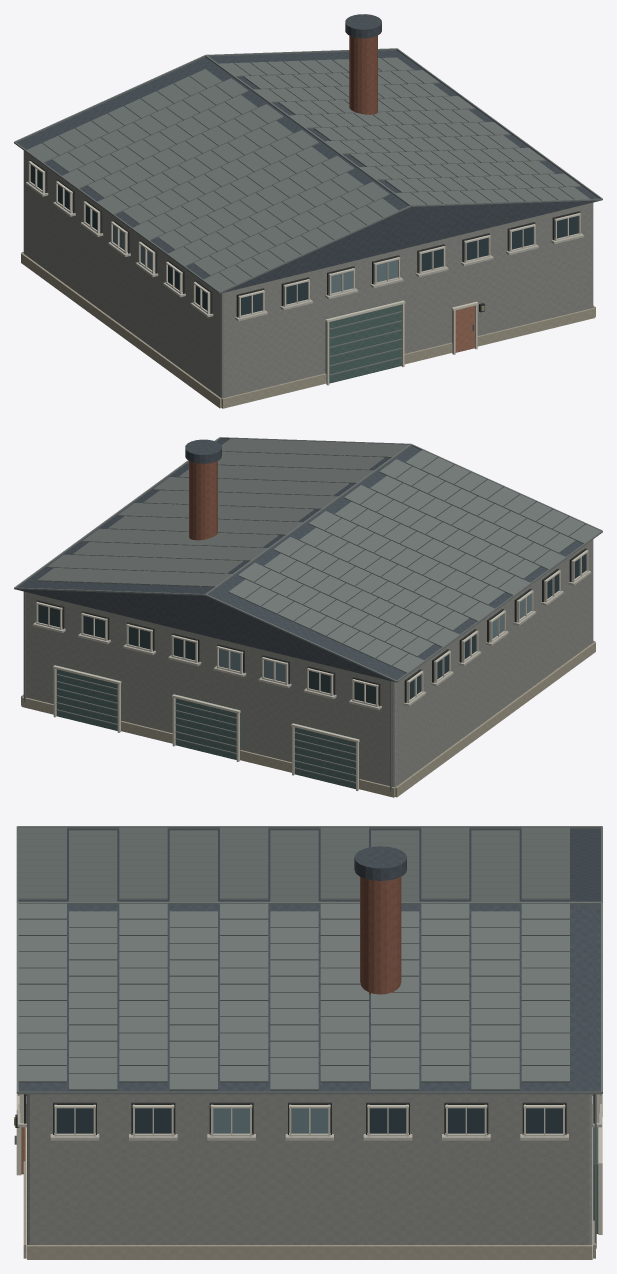
Rendered from IND_MID_3x3_003.glb.
3 renders of one model, top to bottom at view 1: azimuth 30°, elevation 25°; view 2: azimuth 150°, elevation 25°; view 3: azimuth 270°, elevation 25°, orthographic. The views are drawn at different scales.
Visible parts, largest first — view 1: IND_MID_3x3_003_Visual; view 2: IND_MID_3x3_003_Visual; view 3: IND_MID_3x3_003_Visual.
Boxes of the visible parts, x1,y1,x2,y2 form: IND_MID_3x3_003_Visual: (14, 14, 602, 408); IND_MID_3x3_003_Visual: (14, 437, 602, 797); IND_MID_3x3_003_Visual: (14, 826, 602, 1259).
Size of what is drawn, in the model's own units: 5.51 by 3.16 by 5.15.
Materials: 14 (8 with a texture image).
